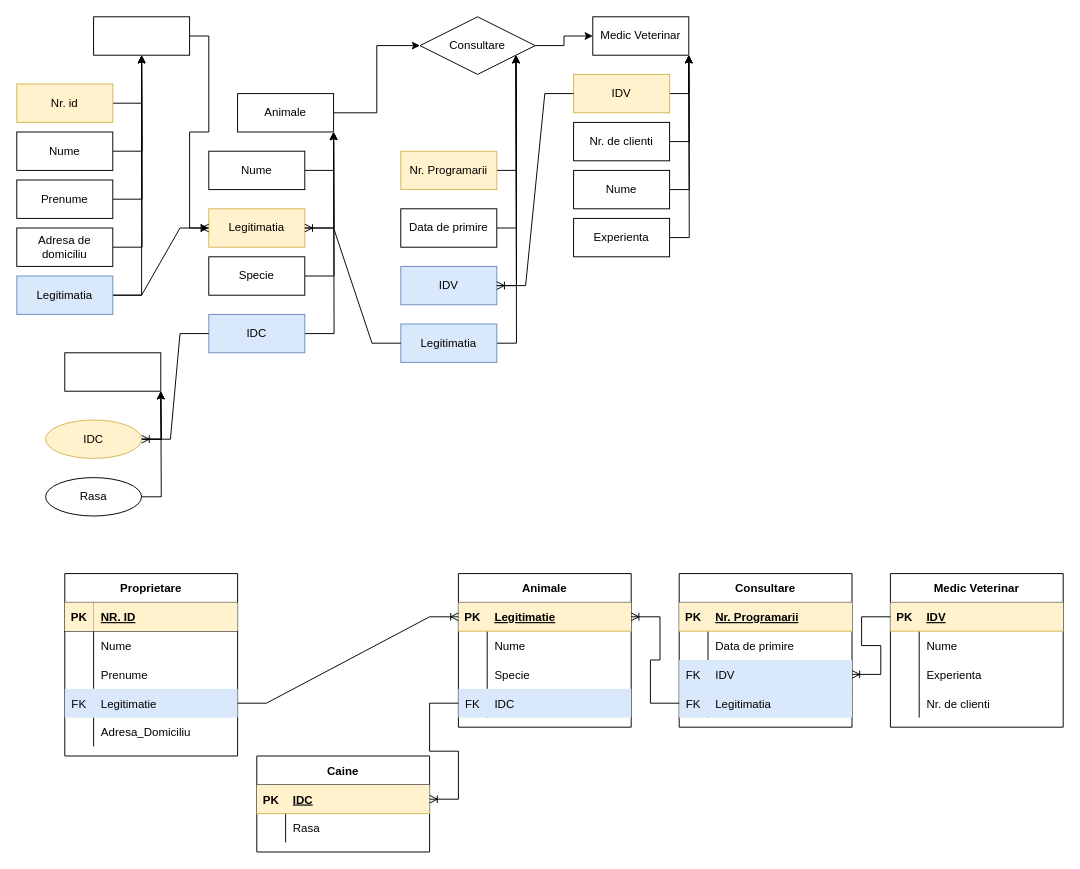
Some shapes in this 1080 by 869 pixel diagram are drawn without their labels. The centre of each missing label's shape, as x and y in pixels:
"Caini" goes at (112,371).
"Proprietarul" goes at (141,35).
